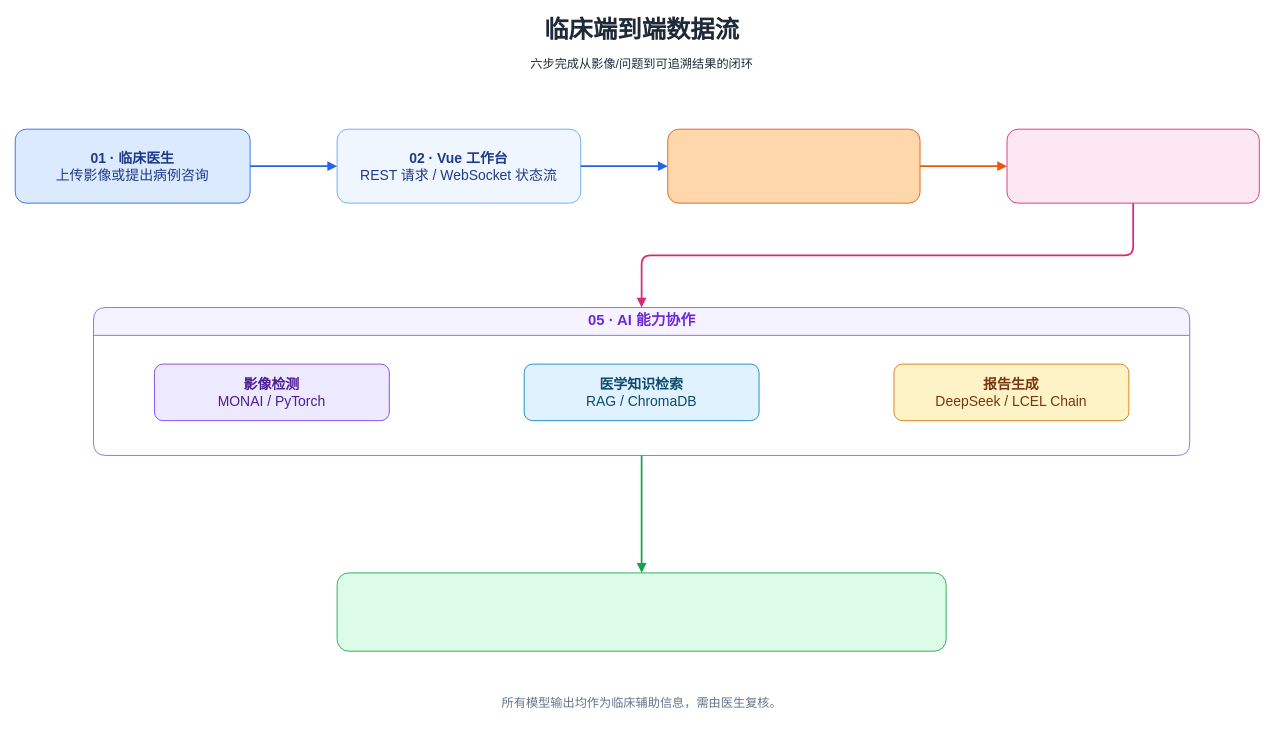
The diagram is 1275 pixels wide and 731 high, and some of its shapes have lost their labels. The shapes that lost their labels are listed below. From the top down, each one's centre as x and y in pixels, then its label:
the point at 793,165: 03 · FastAPI 接收请求、路由分发、返回状态
the point at 1132,165: 04 · 医疗智能体 结合 CaseContext 选择合适工具
the point at 641,611: 06 · 结果回传与留痕 分析结果、临床报告与过程状态返回前端 MinIO / ChromaDB / SQLite 保存必要数据
